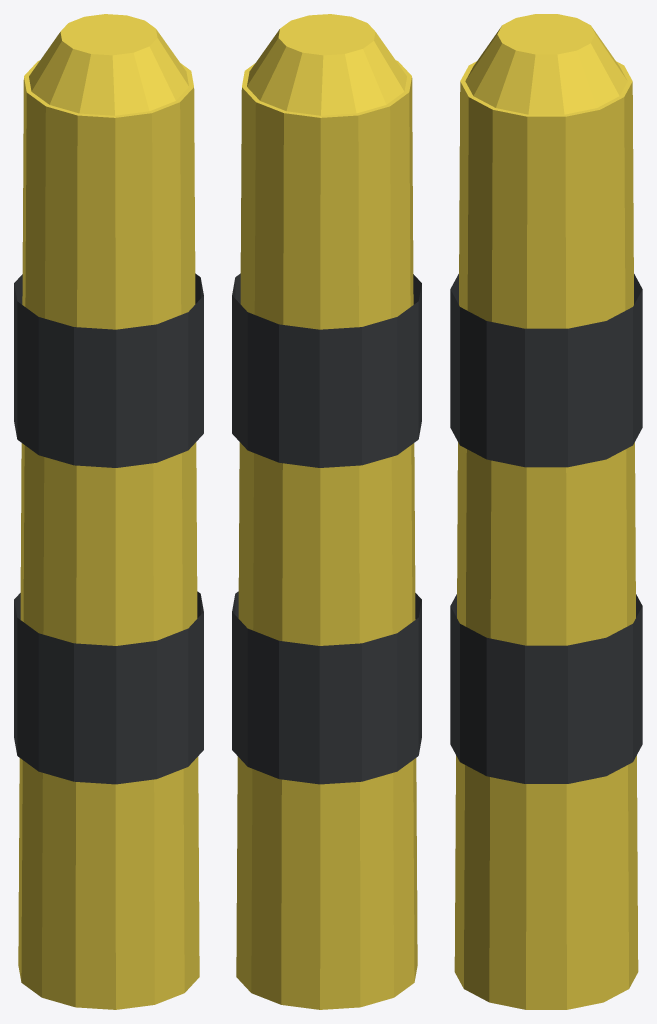
Rendered from bollard_yb.glb.
3 renders of one model, left to right at view 1: azimuth 30°, elevation 25°; view 2: azimuth 150°, elevation 25°; view 3: azimuth 270°, elevation 25°, orthographic.
Visible parts, largest first — view 1: bollard_yb; view 2: bollard_yb; view 3: bollard_yb.
Part boxes in pixels (<box>): bollard_yb: <box>14,14,203,1009</box>; bollard_yb: <box>232,14,421,1009</box>; bollard_yb: <box>450,14,642,1009</box>.
Bounding box in the file's own units: 0.1716 × 0.9475 × 0.176.
